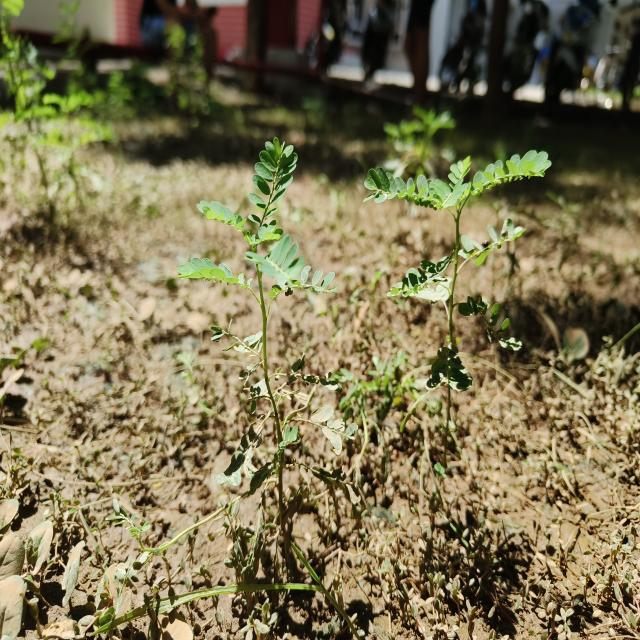weed: (361, 151, 549, 495), (186, 135, 310, 564)
